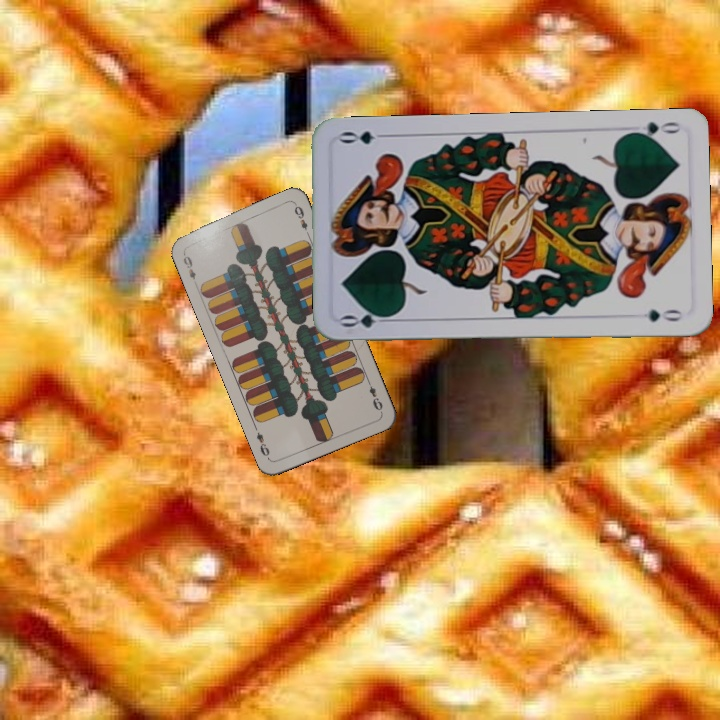E9: (363, 376, 385, 413), (179, 248, 199, 287)
GO: (623, 117, 682, 143), (338, 309, 397, 330)
